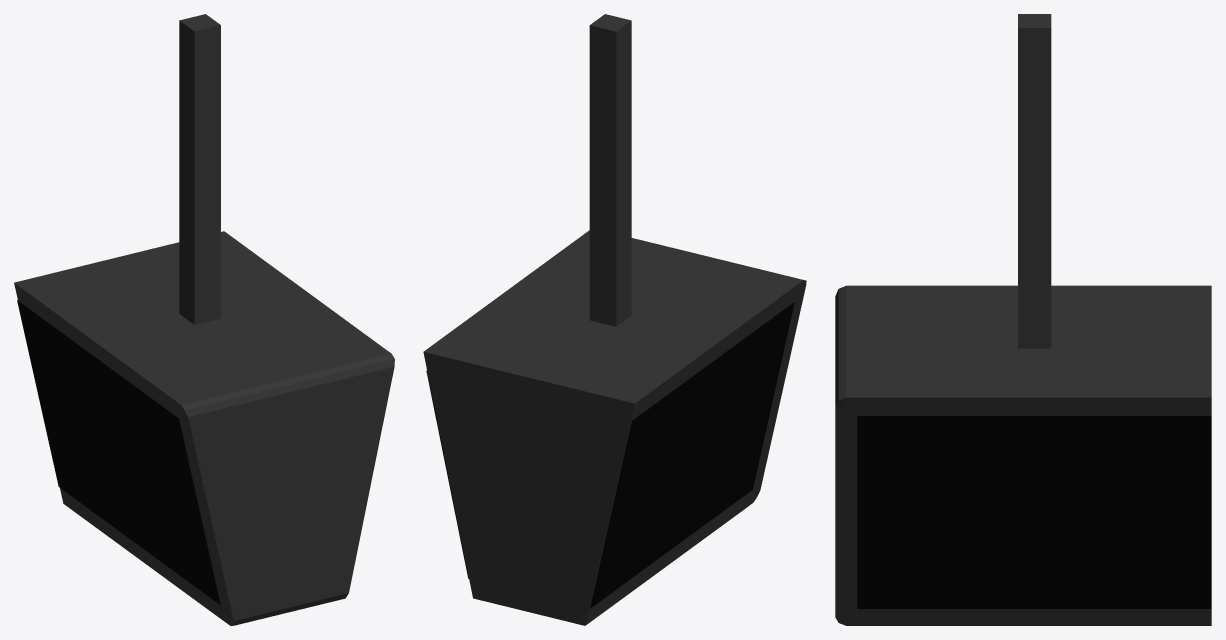
The model's file is nyc_subway_led_pids.obj.
3 renders of one model, left to right at view 1: azimuth 30°, elevation 25°; view 2: azimuth 150°, elevation 25°; view 3: azimuth 270°, elevation 25°, orthographic. The views are drawn at different scales.
Visible parts, largest first — view 1: main, screen, pole; view 2: main, screen, pole; view 3: screen, main, pole.
Boxes of the visible parts, x1=… form: main: x1=14, y1=231, x2=394, y2=625; screen: x1=17, y1=300, x2=220, y2=605; pole: x1=179, y1=14, x2=220, y2=324; main: x1=423, y1=230, x2=806, y2=625; screen: x1=426, y1=302, x2=794, y2=608; pole: x1=589, y1=14, x2=631, y2=326; screen: x1=857, y1=416, x2=1211, y2=608; main: x1=835, y1=285, x2=1211, y2=625; pole: x1=1018, y1=14, x2=1051, y2=348.
Bounding box in the file's own units: 0.7486 × 1.79 × 1.06.
2 materials, 2 textured.
